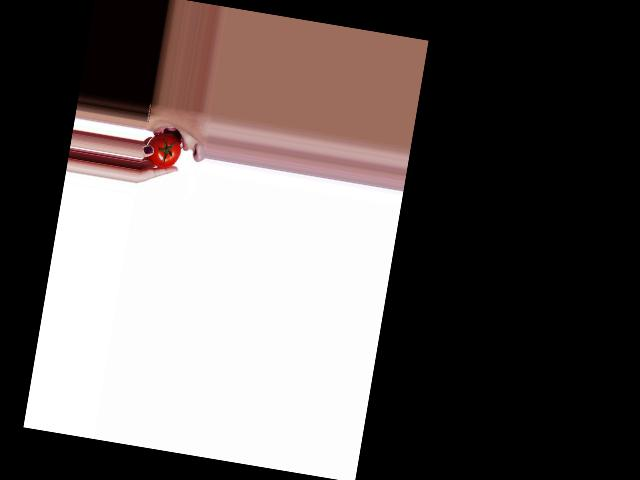tomato: (143, 131, 182, 171)
